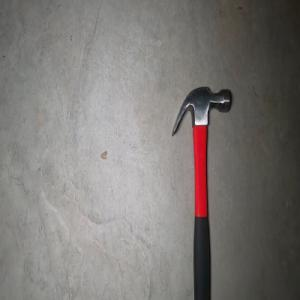Hammer: (170, 84, 232, 300)
